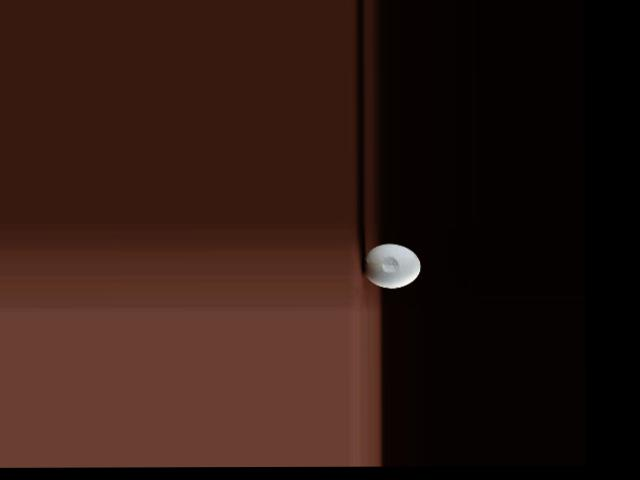egg: (363, 243, 421, 288)
